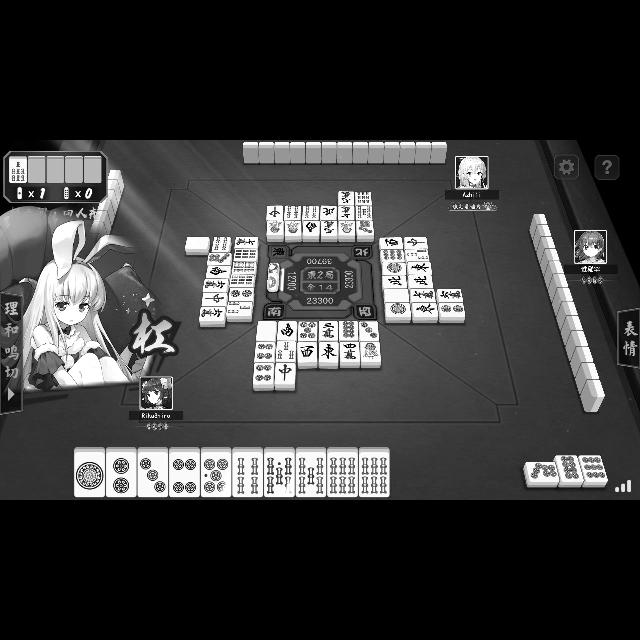1p: (73, 447, 105, 498), (385, 303, 411, 323), (382, 263, 406, 275)
1s: (361, 342, 381, 368), (266, 220, 284, 242), (338, 220, 356, 242), (284, 222, 302, 242)
2p: (106, 447, 138, 498), (438, 304, 466, 322), (228, 288, 254, 302)
3m: (318, 321, 338, 341)
3p: (138, 447, 168, 498), (359, 321, 378, 341)
3s: (226, 302, 254, 322), (276, 342, 296, 362), (405, 250, 429, 262)
4m: (340, 342, 360, 368)
4p: (170, 447, 200, 498), (252, 364, 274, 391), (254, 342, 276, 362)
4s: (232, 447, 264, 497), (212, 236, 232, 252), (284, 206, 302, 220), (302, 206, 320, 220)
5p: (201, 447, 231, 498), (298, 321, 318, 341)
5s: (265, 447, 295, 497), (296, 448, 326, 497), (356, 206, 372, 220)
6m: (199, 307, 225, 327), (202, 278, 228, 292), (436, 290, 464, 302)
6s: (358, 447, 389, 497), (328, 447, 358, 497), (232, 262, 256, 274)
7m: (410, 290, 436, 302), (235, 237, 259, 249), (338, 206, 354, 220)
7p: (523, 462, 559, 488)
7s: (9, 157, 27, 183), (356, 220, 374, 242), (206, 253, 232, 265)
8p: (557, 456, 581, 488), (339, 321, 358, 341)
9m: (320, 222, 338, 242), (338, 192, 354, 206)
9p: (580, 455, 608, 487), (380, 250, 404, 262)
9s: (229, 274, 255, 288), (234, 250, 258, 260), (356, 192, 372, 205)
chun: (274, 363, 296, 391), (201, 294, 227, 306), (266, 206, 284, 220), (404, 238, 428, 248)
haku: (184, 237, 210, 255), (256, 321, 278, 341), (383, 290, 409, 302)
nan: (278, 321, 298, 341), (303, 220, 319, 242), (206, 266, 230, 278)
pe: (381, 276, 407, 288), (408, 276, 434, 288), (319, 206, 336, 220)
sha: (297, 342, 317, 368), (378, 238, 404, 248)
tou: (319, 342, 339, 368), (412, 304, 438, 322), (408, 262, 432, 274)
